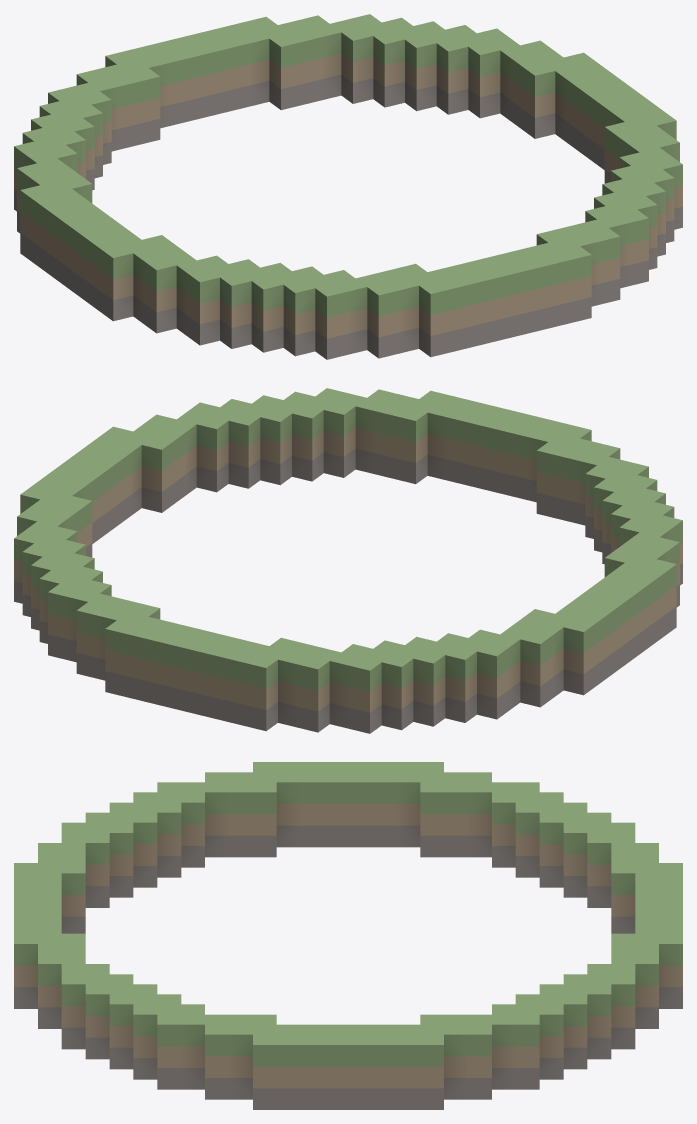
File: arene_6.glb
3 renders of one model, top to bottom at view 1: azimuth 30°, elevation 25°; view 2: azimuth 150°, elevation 25°; view 3: azimuth 270°, elevation 25°, orthographic. The views are drawn at different scales.
Parts seen in each view (by area): view 1: geometry_0; view 2: geometry_0; view 3: geometry_0.
Boxes of the visible parts, x1,y1,x2,y2 form: geometry_0: [14, 14, 682, 359]; geometry_0: [14, 388, 682, 733]; geometry_0: [14, 762, 682, 1109].
Bounding box in the file's own units: 14 × 1.5 × 14.
